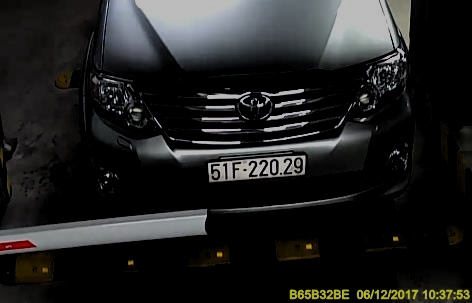plate: (206, 151, 308, 182)
